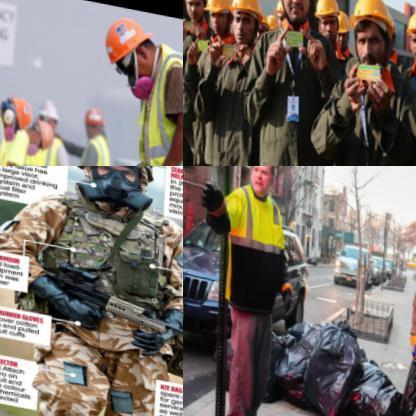vest: (38, 182, 178, 325), (229, 16, 347, 165), (307, 61, 415, 165), (213, 188, 291, 320), (194, 40, 266, 165), (128, 46, 182, 165), (183, 17, 216, 165), (12, 124, 68, 165), (66, 129, 114, 165)
